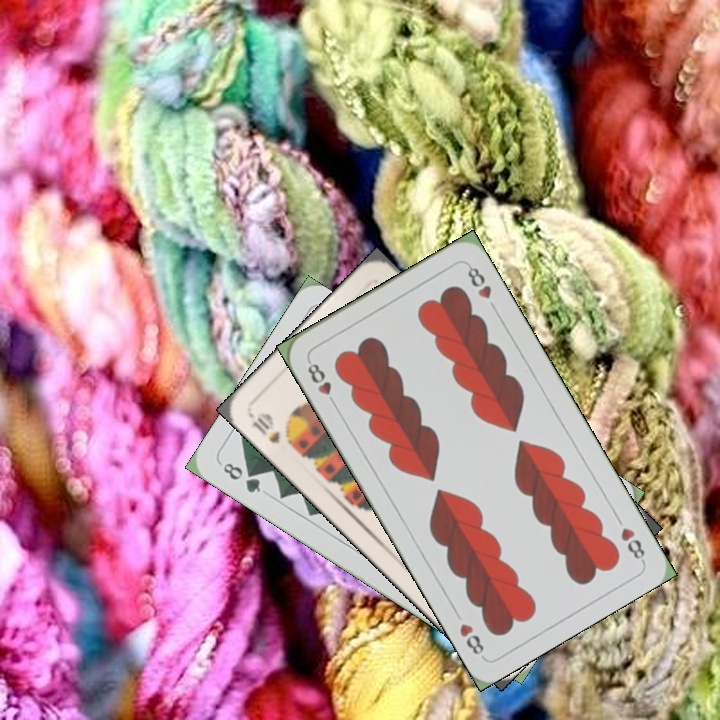G8: (216, 458, 264, 496)
H8: (303, 356, 340, 409), (616, 523, 648, 564)
S10: (247, 408, 283, 446)
